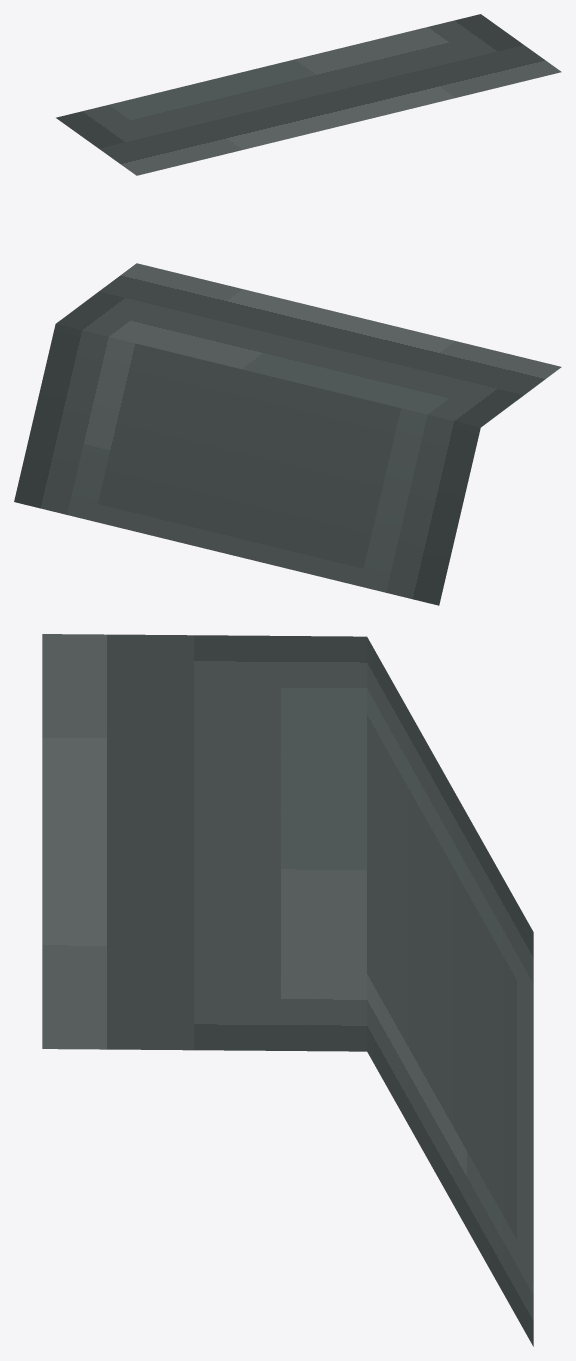
3 renders of one model, top to bottom at view 1: azimuth 30°, elevation 25°; view 2: azimuth 150°, elevation 25°; view 3: azimuth 270°, elevation 25°, orthographic. The views are drawn at different scales.
Size of the model in its own units: 1 by 0.3348 by 0.5.
1 material, 1 textured.
